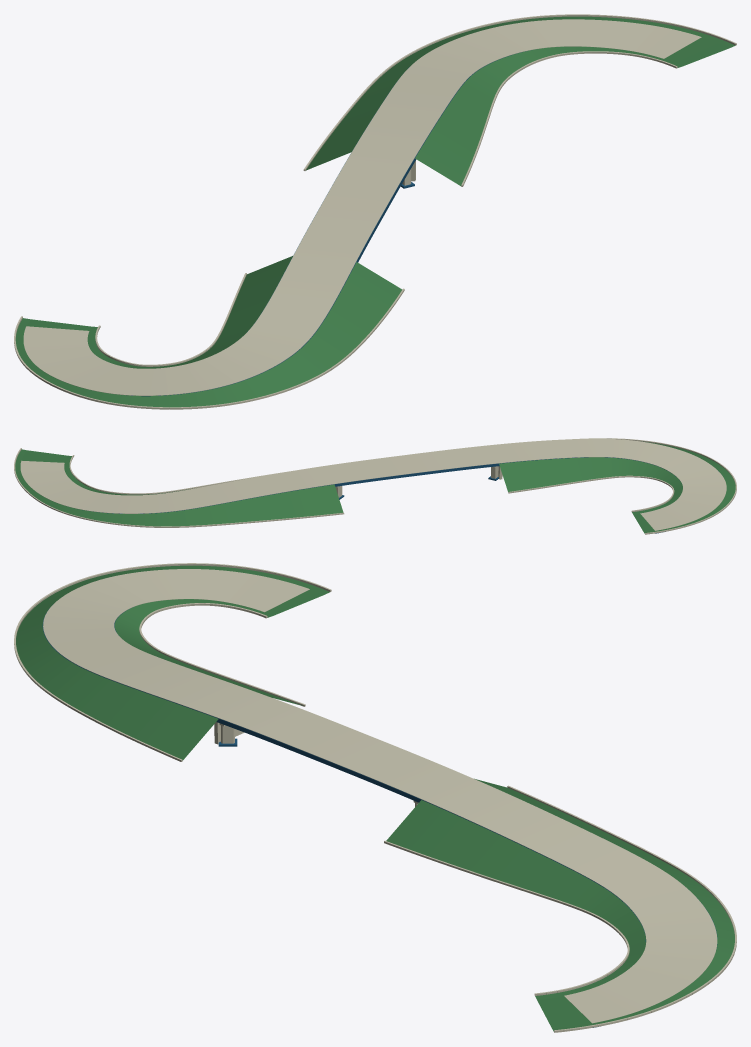
The model's file is bridge_infrastructure.glb.
3 views of the same model, one above another, from view 1: azimuth 30°, elevation 25°; view 2: azimuth 150°, elevation 25°; view 3: azimuth 270°, elevation 25° (orthographic). The views are drawn at different scales.
Visible parts, largest first — view 1: StructuralDeck, Embankment, RetainingToes, EdgeGirders; view 2: StructuralDeck, Embankment, RetainingToes, EdgeGirders; view 3: StructuralDeck, Embankment, RetainingToes, EdgeGirders.
Boxes of the visible parts, x1=… form: StructuralDeck: x1=23, y1=19, x2=701, y2=395; Embankment: x1=15, y1=16, x2=735, y2=407; RetainingToes: x1=14, y1=14, x2=736, y2=409; EdgeGirders: x1=126, y1=51, x2=525, y2=396; StructuralDeck: x1=20, y1=438, x2=726, y2=530; Embankment: x1=15, y1=441, x2=735, y2=533; RetainingToes: x1=14, y1=438, x2=736, y2=534; EdgeGirders: x1=99, y1=457, x2=718, y2=533; StructuralDeck: x1=43, y1=569, x2=717, y2=1023; Embankment: x1=16, y1=565, x2=734, y2=1031; RetainingToes: x1=14, y1=563, x2=736, y2=1032; EdgeGirders: x1=42, y1=608, x2=717, y2=1027.
Bounding box in the file's own units: 282 × 9.28 × 184.
